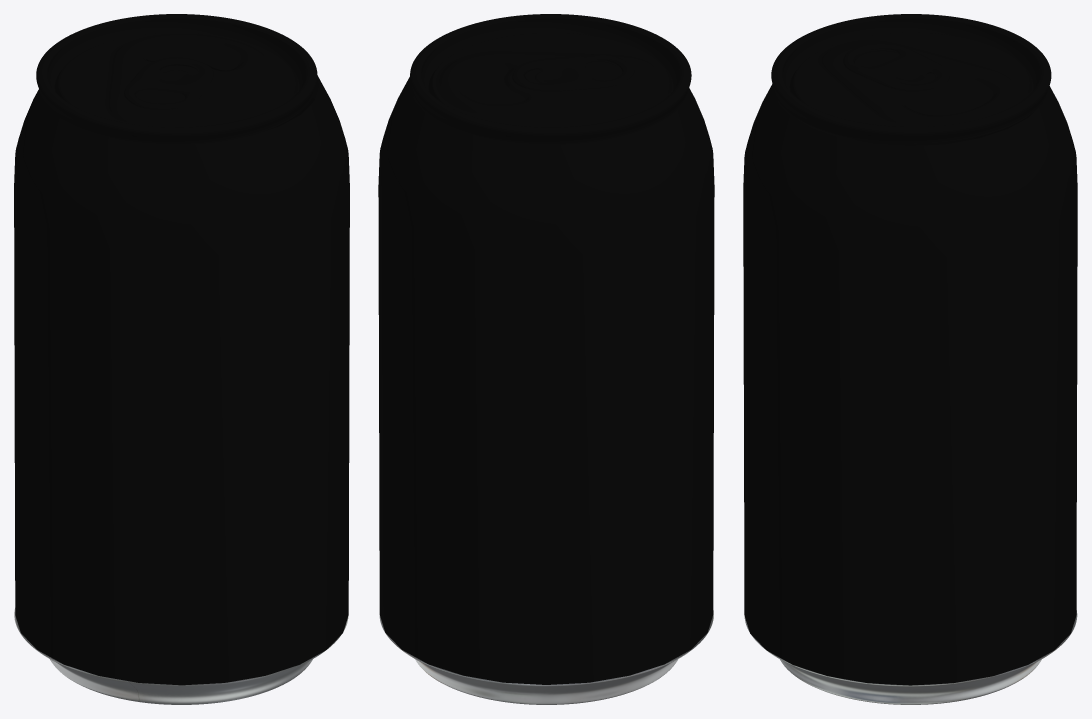
File: black_can_final.glb
3 views of the same model, side by side, from view 1: azimuth 30°, elevation 25°; view 2: azimuth 150°, elevation 25°; view 3: azimuth 270°, elevation 25° (orthographic).
Parts seen in each view (by area): view 1: clean cylinder, Cylinder.22320, Cylinder.39021; view 2: clean cylinder, Cylinder.22320, Cylinder.39021; view 3: clean cylinder, Cylinder.22320, Cylinder.39021.
Part boxes in pixels (box(x1,y1,x2,y2)): clean cylinder: box(14, 59, 349, 685); Cylinder.22320: box(36, 14, 317, 144); Cylinder.39021: box(14, 608, 348, 704); clean cylinder: box(378, 70, 714, 684); Cylinder.22320: box(410, 14, 691, 144); Cylinder.39021: box(379, 610, 713, 704); clean cylinder: box(743, 84, 1077, 685); Cylinder.22320: box(771, 14, 1051, 143); Cylinder.39021: box(744, 610, 1077, 704).
Bounding box in the file's own units: 1.57 × 3 × 1.57.
3 materials, 3 textured.
